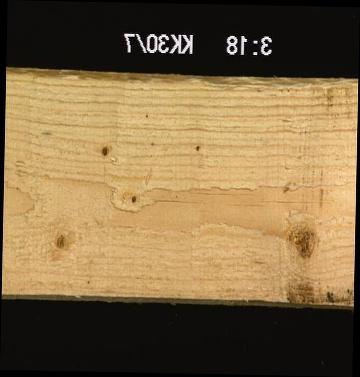dry_knot: (97, 140, 112, 160), (127, 190, 139, 206)
sound_knot: (284, 220, 319, 266), (51, 231, 68, 252)
split: (143, 177, 355, 199)
